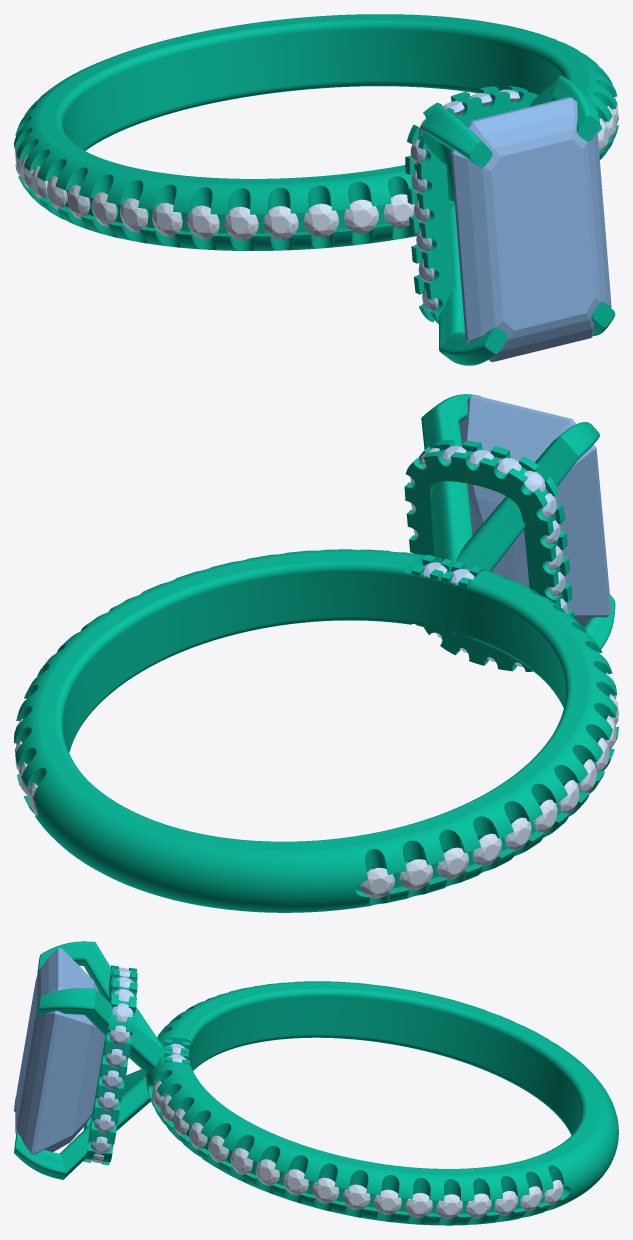
The picture shows the model from 3 angles, top to bottom: view 1: azimuth 30°, elevation 25°; view 2: azimuth 150°, elevation 25°; view 3: azimuth 270°, elevation 25°; orthographic projection. The views are drawn at different scales.
Visible parts, largest first — view 1: LR014(base).3dm, Diamond_Emerald, Diamond_Round (×10); view 2: LR014(base).3dm, Diamond_Emerald, Diamond_Round (×3); view 3: LR014(base).3dm, Diamond_Emerald, Diamond_Round (×11).
Boxes of the visible parts, <box> form: LR014(base).3dm: <box>14,14,618,365</box>; Diamond_Emerald: <box>450,97,611,362</box>; Diamond_Round (×10): <box>67,185,414,240</box>; LR014(base).3dm: <box>14,394,618,912</box>; Diamond_Emerald: <box>459,395,611,625</box>; Diamond_Round (×3): <box>360,847,468,898</box>; LR014(base).3dm: <box>14,941,618,1225</box>; Diamond_Emerald: <box>15,948,105,1154</box>; Diamond_Round (×11): <box>208,1135,518,1219</box>.
Size of the model in its own units: 2.38 by 1.07 by 3.03.
